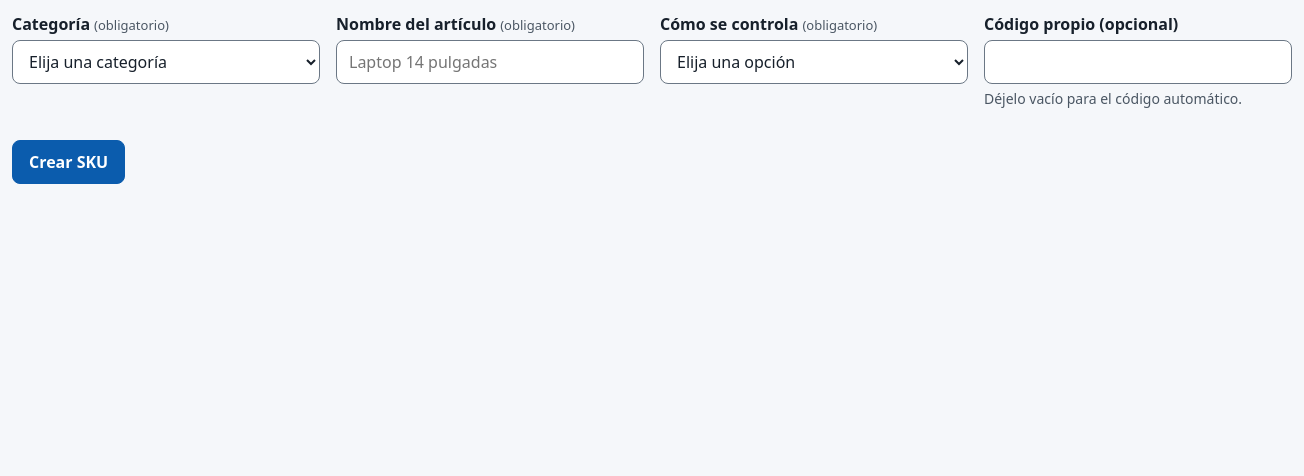
Test: FormularioSku › los campos de la categoría aparecen solos al elegirla, cada uno según su tipo
Select "Laptops (LAP)" in the dropdown with test id "campo-categoria" at (166, 62), box [12,40,320,84]
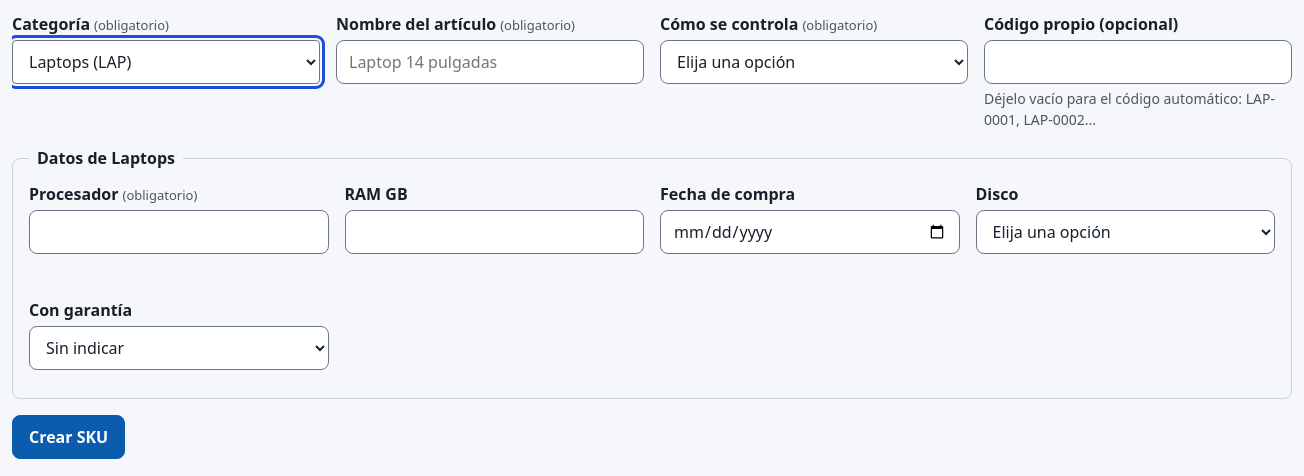
Expected: the element with test id "campos-de-categoria" is shown, [12,146,1292,399]
Note: otra categoría cambia los campos
Select "Monitores (MON)" in the dropdown with test id "campo-categoria" at (166, 62), box [12,40,320,84]
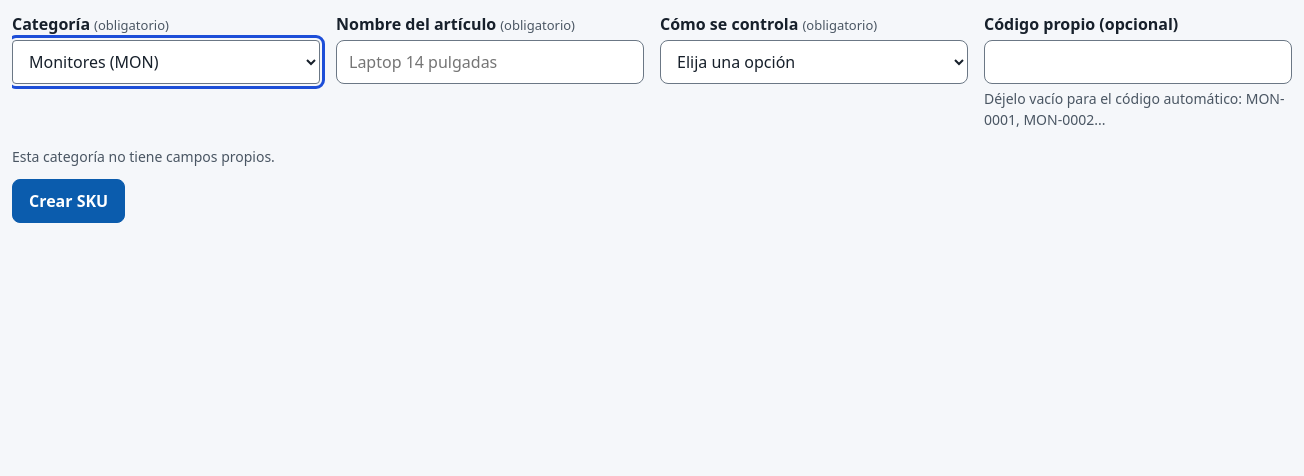
Expected: the label with test id "valor-procesador" is gone
